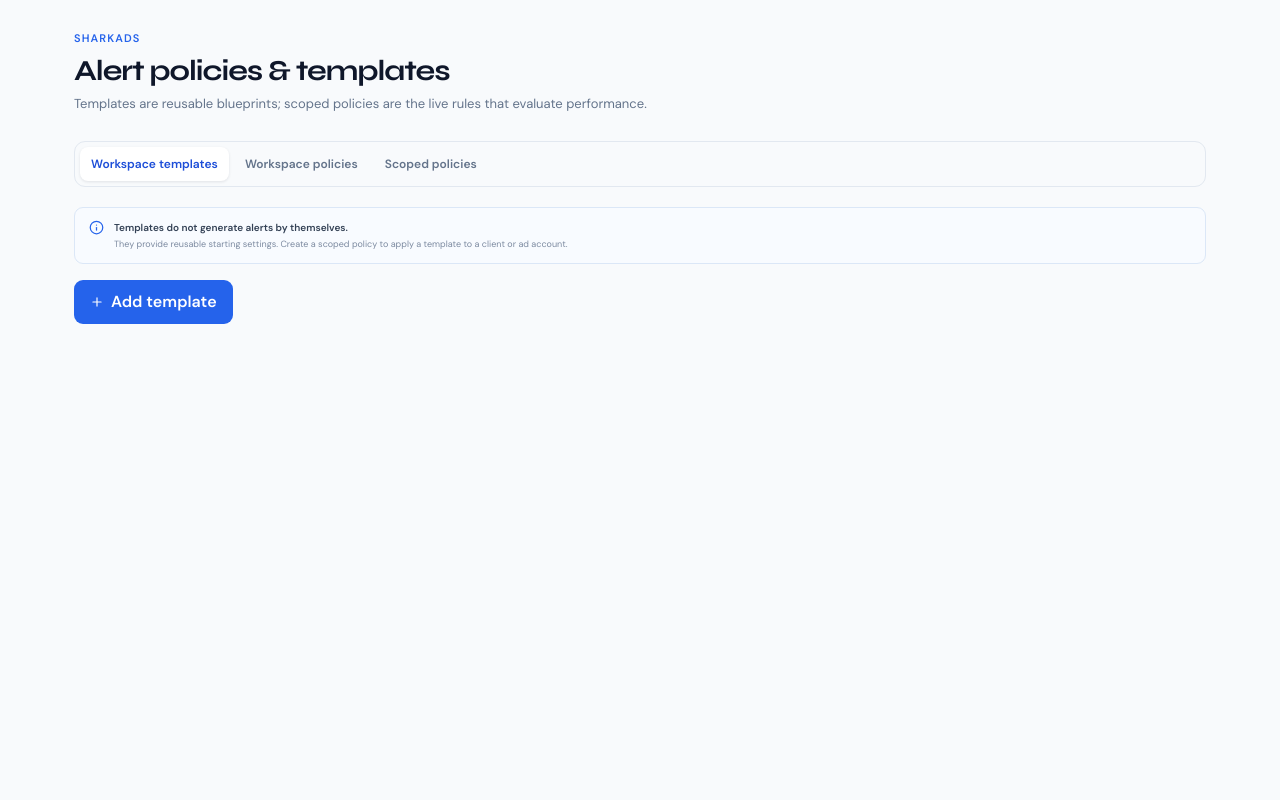
Test case: creates a template from a guided modal with a plain-language preview
The image size is (1280, 800).
Click the button "Add template" at (153, 302), box [74, 280, 233, 324]
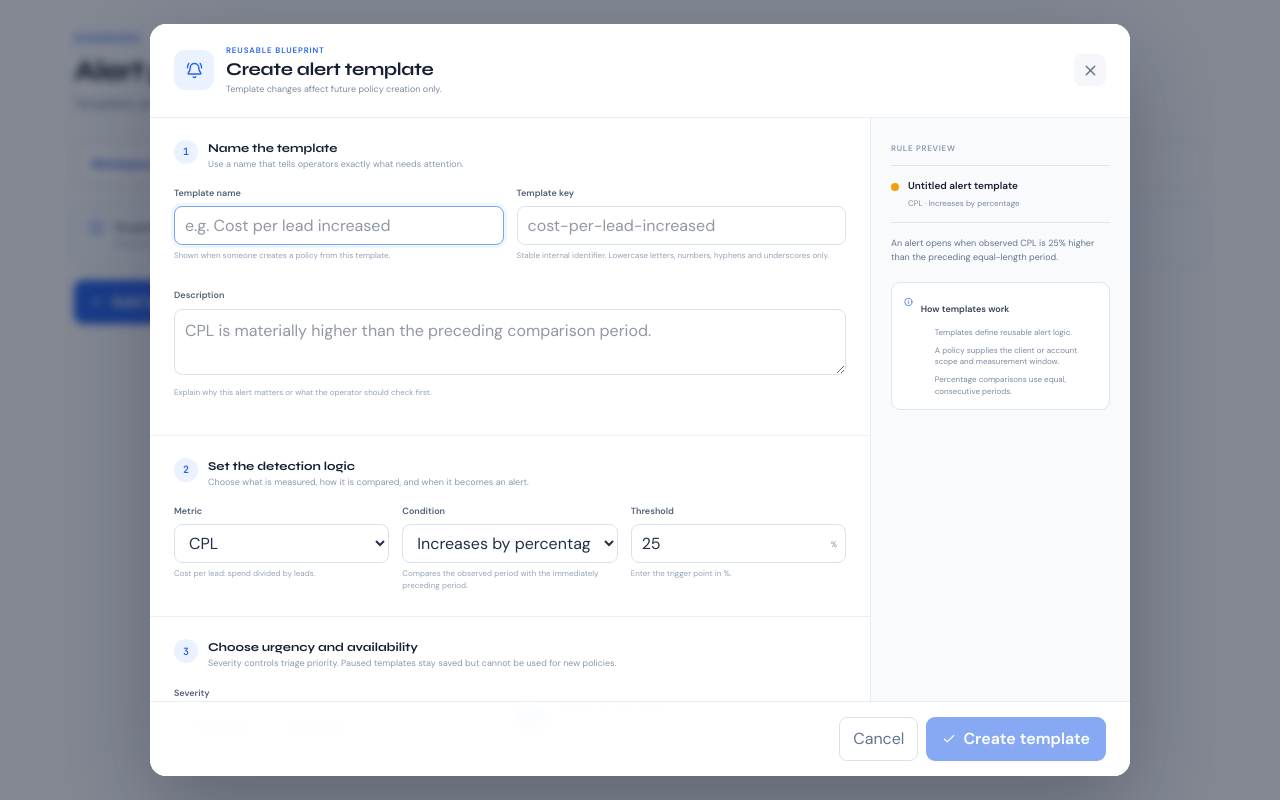
Now the dialog "Create alert template" is shown
Now the text "How templates work" is shown, box [921, 303, 1009, 315]
Now the list item "Percentage comparisons use equal, consecutive periods." is shown, box [935, 374, 1066, 396]
Type "Cost per lead increased" into the field with placeholder "e.g. Cost per lead increased" at (339, 226), box [174, 206, 504, 245]
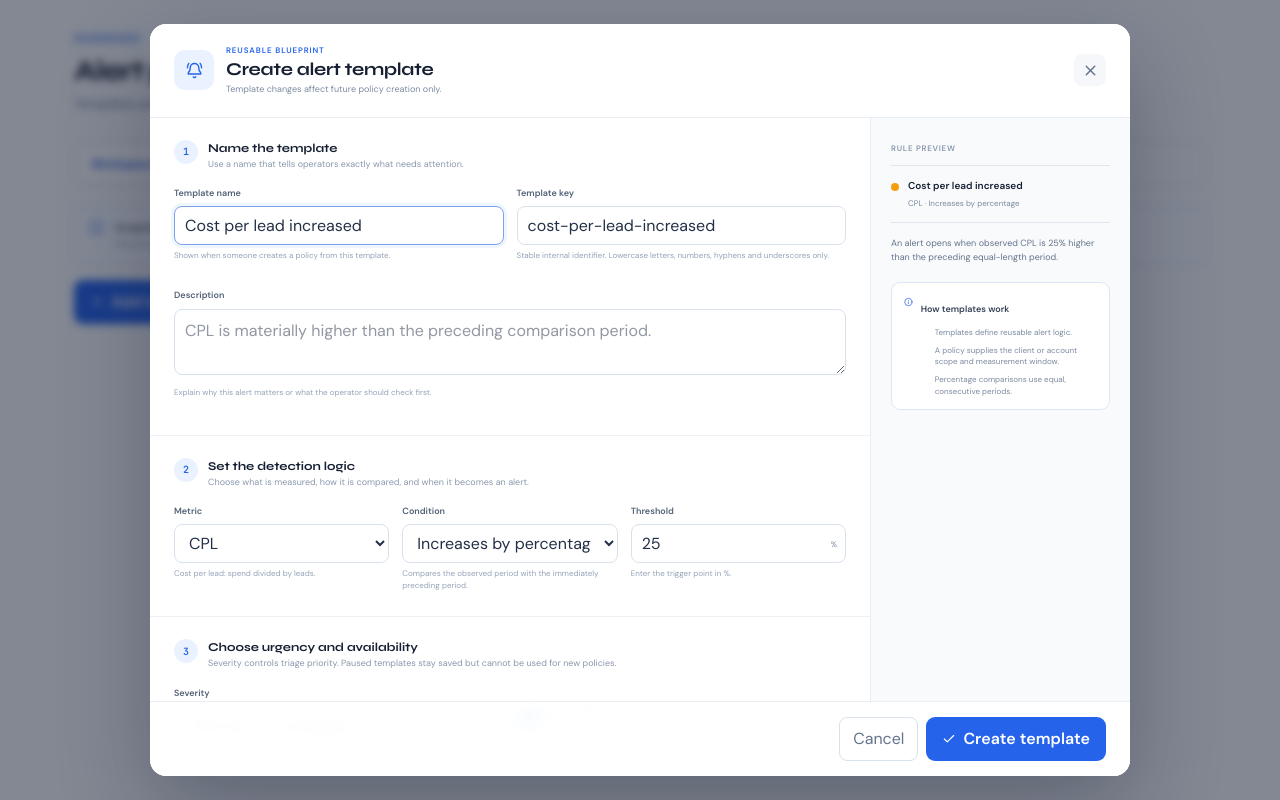
Now the number field holds "25", box [631, 524, 846, 564]
Now the text "An alert opens when observed CPL is 25% higher than the preceding equal-length period." is shown, box [891, 236, 1094, 263]
Now the field with placeholder "cost-per-lead-increased" holds "cost-per-lead-increased", box [516, 206, 846, 245]
Click the button "Create template" at (1016, 739), box [926, 717, 1106, 761]
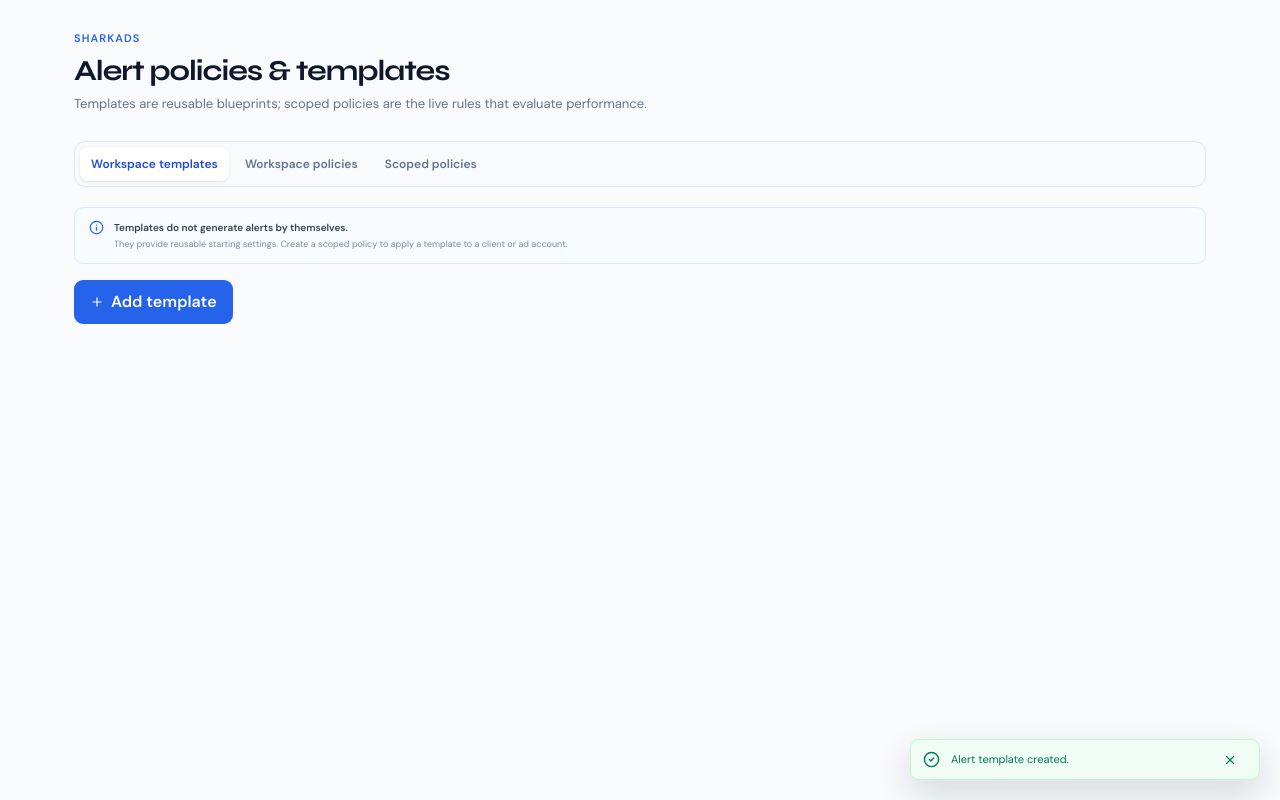
Now the text "Alert template created." is shown, box [951, 752, 1069, 766]
Now the heading "Create alert template" is gone
